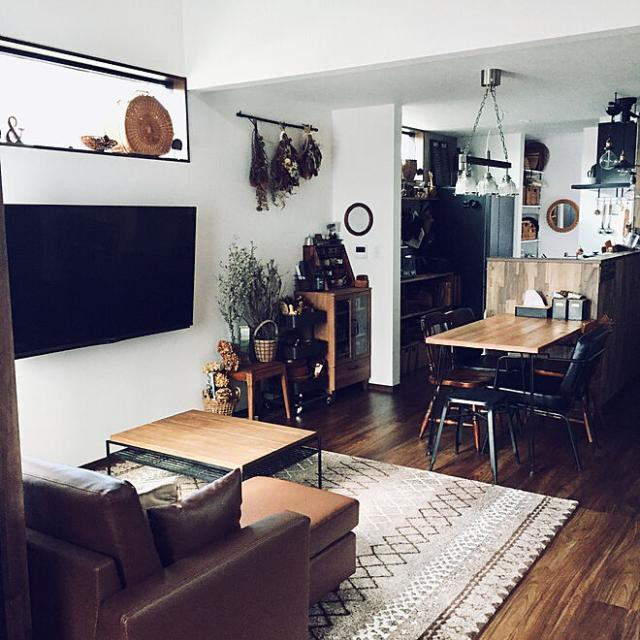vintage chair: (503, 320, 606, 486)
vintage desk: (426, 312, 585, 476), (103, 407, 322, 477)
vintage sofa: (23, 452, 313, 638)
